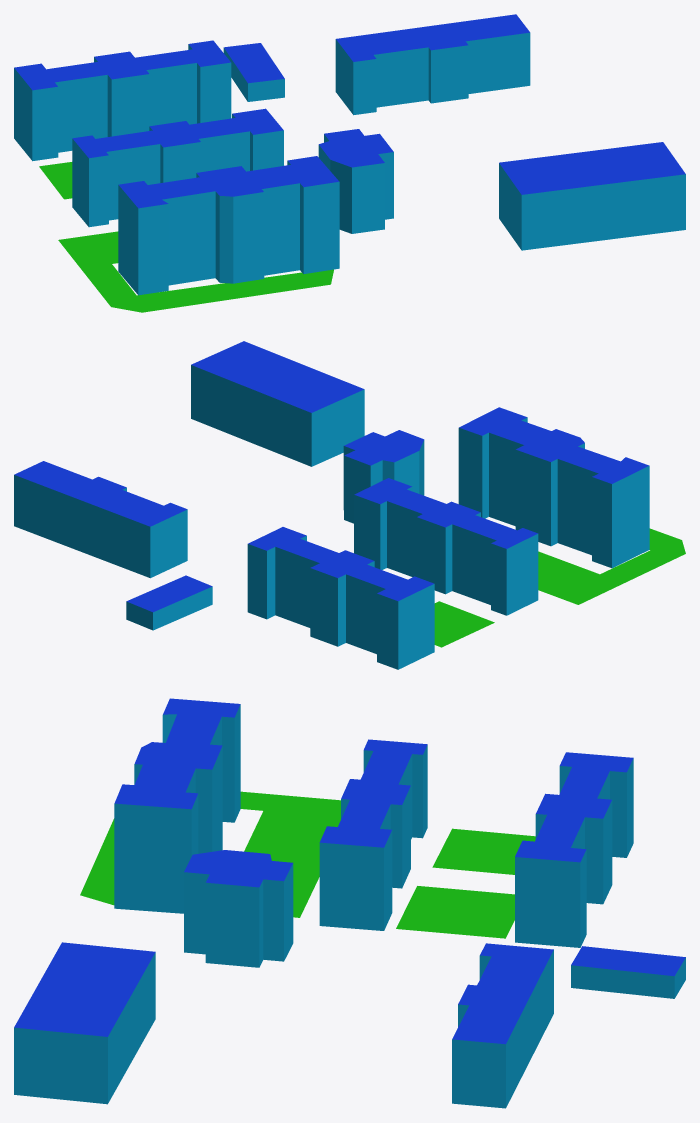
The model's file is Ministerio3D2.glb.
3 views of the same model, one above another, from view 1: azimuth 30°, elevation 25°; view 2: azimuth 150°, elevation 25°; view 3: azimuth 270°, elevation 25° (orthographic). The views are drawn at different scales.
Parts seen in each view (by area): view 1: map_21.osm_buildings.001, map_21.osm_buildings.005, map_21.osm_buildings, map_21.osm_buildings.006, map_21.osm_buildings.004, map_21.osm_vegetation, map_21.osm_buildings.003, map_21.osm_buildings.002, map_21.osm_vegetation.002; view 2: map_21.osm_buildings.001, map_21.osm_buildings.005, map_21.osm_buildings.004, map_21.osm_buildings, map_21.osm_buildings.006, map_21.osm_buildings.003, map_21.osm_vegetation, map_21.osm_buildings.002, map_21.osm_vegetation.002; view 3: map_21.osm_buildings.001, map_21.osm_buildings, map_21.osm_buildings.005, map_21.osm_buildings.004, map_21.osm_buildings.006, map_21.osm_buildings.003, map_21.osm_vegetation, map_21.osm_vegetation.001, map_21.osm_buildings.002, map_21.osm_vegetation.002.
Boxes of the visible parts, left/top/right/bottom form: map_21.osm_buildings.001: left=118, top=156, right=339, bottom=295; map_21.osm_buildings.005: left=14, top=40, right=231, bottom=161; map_21.osm_buildings: left=499, top=142, right=685, bottom=250; map_21.osm_buildings.006: left=335, top=14, right=530, bottom=115; map_21.osm_buildings.004: left=72, top=108, right=283, bottom=227; map_21.osm_vegetation: left=58, top=231, right=333, bottom=312; map_21.osm_buildings.003: left=318, top=129, right=393, bottom=233; map_21.osm_buildings.002: left=223, top=43, right=284, bottom=101; map_21.osm_vegetation.002: left=39, top=162, right=72, bottom=199; map_21.osm_buildings.001: left=458, top=407, right=649, bottom=568; map_21.osm_buildings.005: left=247, top=527, right=434, bottom=669; map_21.osm_buildings.004: left=354, top=478, right=538, bottom=615; map_21.osm_buildings: left=191, top=341, right=364, bottom=466; map_21.osm_buildings.006: left=14, top=461, right=187, bottom=578; map_21.osm_buildings.003: left=343, top=430, right=424, bottom=523; map_21.osm_vegetation: left=538, top=528, right=685, bottom=604; map_21.osm_buildings.002: left=126, top=575, right=212, bottom=630; map_21.osm_vegetation.002: left=434, top=601, right=494, bottom=647; map_21.osm_buildings.001: left=114, top=698, right=240, bottom=913; map_21.osm_buildings: left=14, top=942, right=155, bottom=1104; map_21.osm_buildings.005: left=515, top=752, right=633, bottom=947; map_21.osm_buildings.004: left=319, top=739, right=427, bottom=930; map_21.osm_buildings.006: left=452, top=943, right=553, bottom=1108; map_21.osm_buildings.003: left=184, top=850, right=293, bottom=967; map_21.osm_vegetation: left=80, top=791, right=340, bottom=917; map_21.osm_vegetation.001: left=396, top=886, right=514, bottom=938; map_21.osm_buildings.002: left=571, top=946, right=685, bottom=998; map_21.osm_vegetation.002: left=432, top=828, right=535, bottom=874.
Bounding box in the file's own units: 139 × 22.27 × 122.
